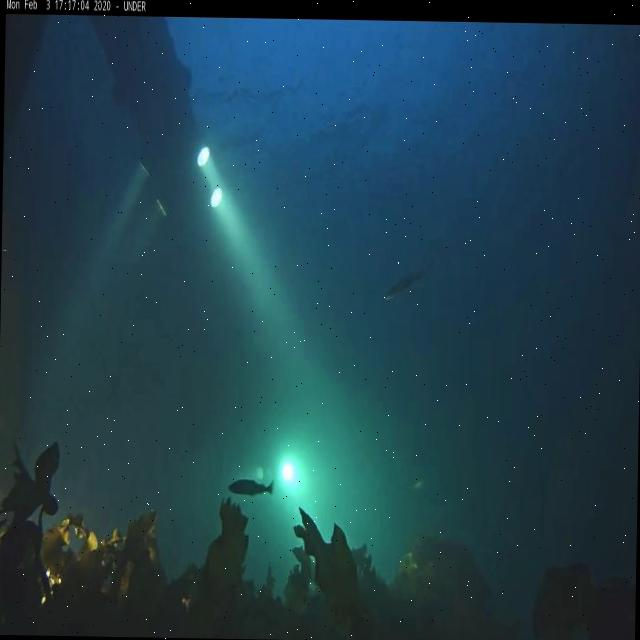fish: (384, 269, 426, 303), (228, 478, 274, 497)
